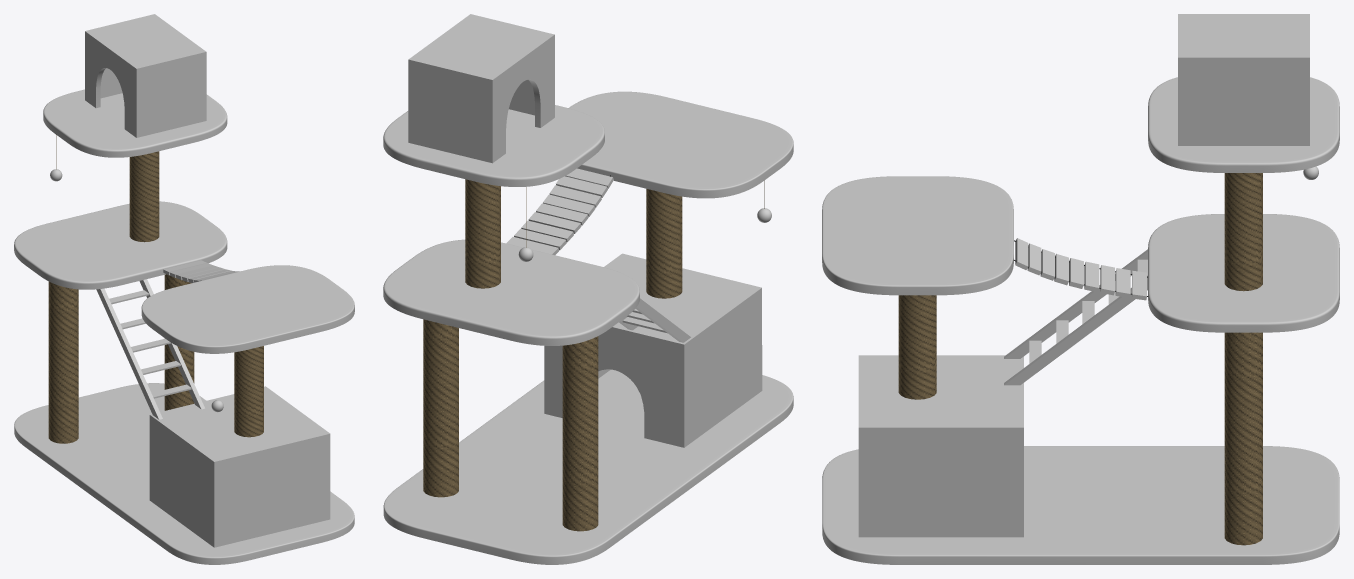
Rendered from cat_tree.FBX.
3 views of the same model, side by side, from view 1: azimuth 30°, elevation 25°; view 2: azimuth 150°, elevation 25°; view 3: azimuth 270°, elevation 25° (orthographic). The views are drawn at different scales.
Parts seen in each view (by area): view 1: Box002, Box001, Box004, Box003, Box013, Box012, Object005, Object001, Object, Box005, Cylinder002, Box011; view 2: Box001, Box002, Box003, Box013, Box004, Box012, Object005, Cylinder002, Box011, Object, Object001, Box005; view 3: Box001, Box002, Box004, Box003, Box013, Cylinder002, Box012, Object001, Object, Box011, Box005.
Part boxes in pixels (x1,y1,x2,y2): Box002: (149, 386, 330, 547); Box001: (14, 383, 354, 564); Box004: (141, 265, 354, 353); Box003: (14, 201, 227, 289); Box013: (85, 14, 206, 137); Box012: (43, 89, 227, 157); Object005: (48, 281, 78, 443); Object001: (129, 151, 159, 242); Object: (234, 346, 263, 437); Box005: (96, 279, 204, 419); Cylinder002: (164, 274, 194, 410); Box011: (163, 260, 239, 282); Box001: (383, 369, 793, 564); Box002: (544, 253, 762, 447); Box003: (383, 239, 639, 345); Box013: (408, 14, 554, 163); Box004: (568, 91, 793, 198); Box012: (383, 105, 604, 186); Object005: (562, 336, 598, 531); Cylinder002: (423, 319, 458, 497); Box011: (506, 168, 613, 254); Object: (646, 189, 682, 298); Object001: (465, 179, 500, 288); Box005: (619, 298, 690, 342); Box001: (822, 446, 1339, 564); Box002: (858, 355, 1023, 537); Box004: (822, 176, 1013, 295); Box003: (1148, 214, 1339, 332); Box013: (1178, 14, 1309, 145); Cylinder002: (1224, 332, 1262, 545); Box012: (1148, 77, 1339, 172); Object001: (1224, 173, 1262, 291); Object: (898, 295, 936, 399); Box011: (1015, 238, 1146, 300); Box005: (1004, 249, 1147, 385).
Size of the model in its own units: 0.504 by 1.04 by 1.
